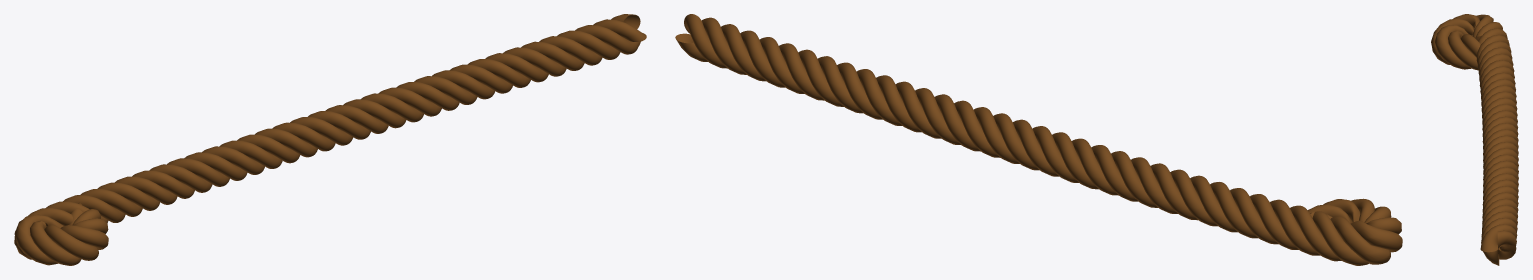
The model's file is ropeJJ.fbx.
The picture shows the model from 3 angles, left to right: view 1: azimuth 30°, elevation 25°; view 2: azimuth 150°, elevation 25°; view 3: azimuth 270°, elevation 25°; orthographic projection. The views are drawn at different scales.
Parts seen in each view (by area): view 1: rope; view 2: rope; view 3: rope.
Boxes of the visible parts, <box> form: rope: <box>14,14,646,265</box>; rope: <box>675,14,1402,265</box>; rope: <box>1431,14,1518,265</box>.
Bounding box in the file's own units: 7155 × 921 × 980.
